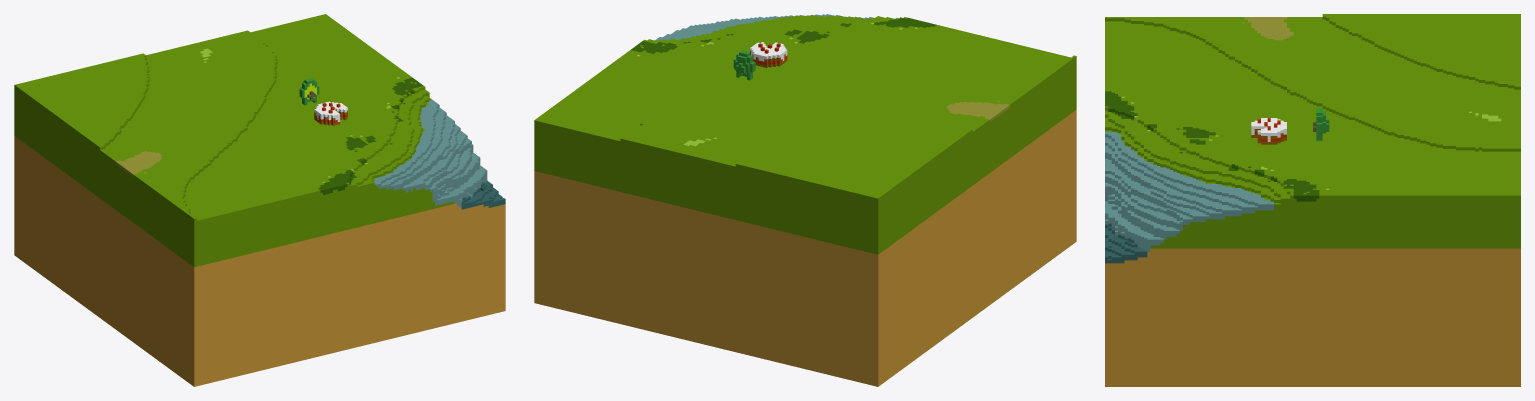
3 renders of one model, left to right at view 1: azimuth 30°, elevation 25°; view 2: azimuth 150°, elevation 25°; view 3: azimuth 270°, elevation 25°, orthographic. The views are drawn at different scales.
Parts seen in each view (by area): view 1: 3B; view 2: 3B; view 3: 3B.
Part boxes in pixels (x1,y1,x2,y2): 3B: [14, 14, 505, 386]; 3B: [534, 14, 1076, 386]; 3B: [1105, 14, 1520, 386].
Bounding box in the file's own units: 12.8 × 7.4 × 12.8.
1 material, 1 textured.
